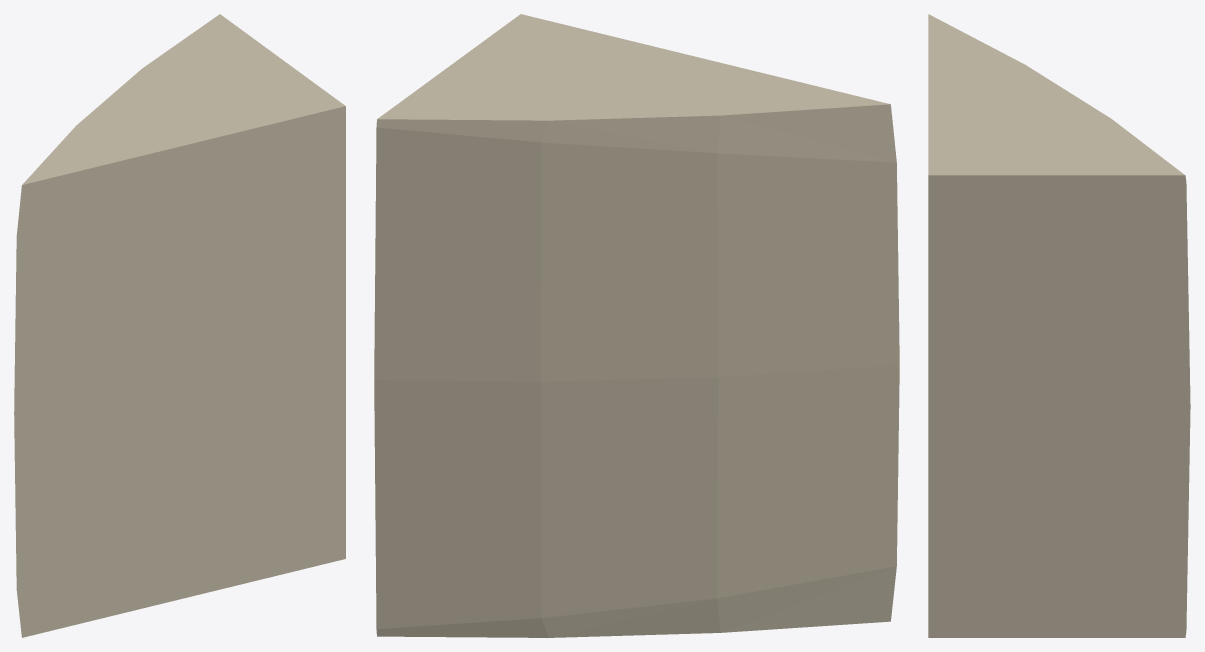
The model's file is NOSE-EA.glb.
3 views of the same model, side by side, from view 1: azimuth 30°, elevation 25°; view 2: azimuth 150°, elevation 25°; view 3: azimuth 270°, elevation 25° (orthographic). The views are drawn at different scales.
Visible parts, largest first — view 1: geometry_0; view 2: geometry_0; view 3: geometry_0.
Boxes of the visible parts, box(x1,y1,x2,y2) form: geometry_0: box(14, 14, 345, 637); geometry_0: box(374, 14, 899, 637); geometry_0: box(928, 14, 1190, 637).
Size of the model in its own units: 230 by 300 by 154.
